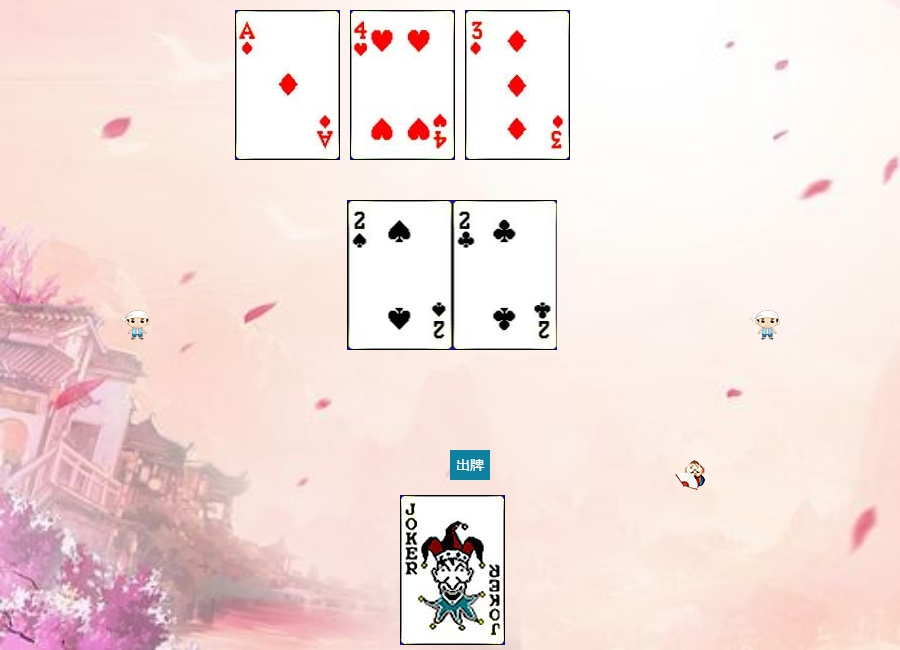14~1: (235, 10, 340, 160)
15~2: (453, 200, 558, 350)
15~4: (348, 200, 453, 350)
17~3: (400, 495, 505, 645)
3~1: (465, 10, 570, 160)
4~3: (350, 10, 455, 160)
